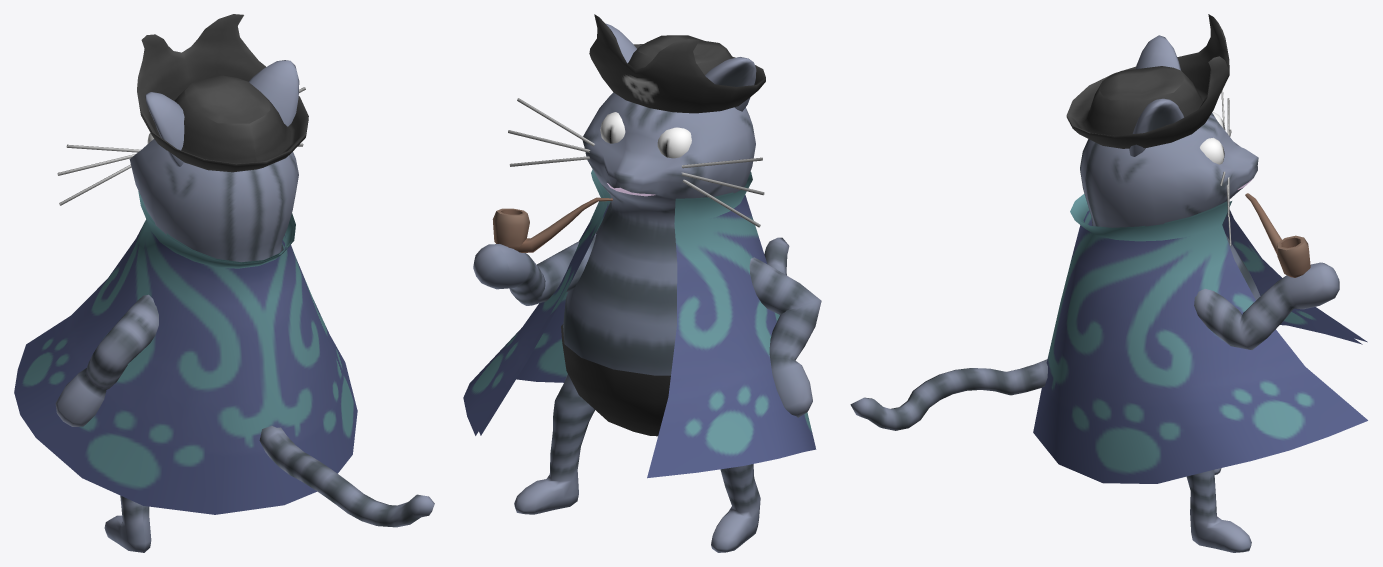
Rendered from neko_idle_a_07.fbx.
The picture shows the model from 3 angles, left to right: view 1: azimuth 30°, elevation 25°; view 2: azimuth 150°, elevation 25°; view 3: azimuth 270°, elevation 25°; orthographic projection. The views are drawn at different scales.
Visible parts, largest first — view 1: I_a_07; view 2: I_a_07; view 3: I_a_07.
Boxes of the visible parts, x1,y1,x2,y2 form: I_a_07: [14, 14, 434, 552]; I_a_07: [463, 14, 821, 552]; I_a_07: [850, 14, 1367, 552].
Size of the model in its own units: 1.28 by 1.94 by 1.93.
1 material, 1 textured.
